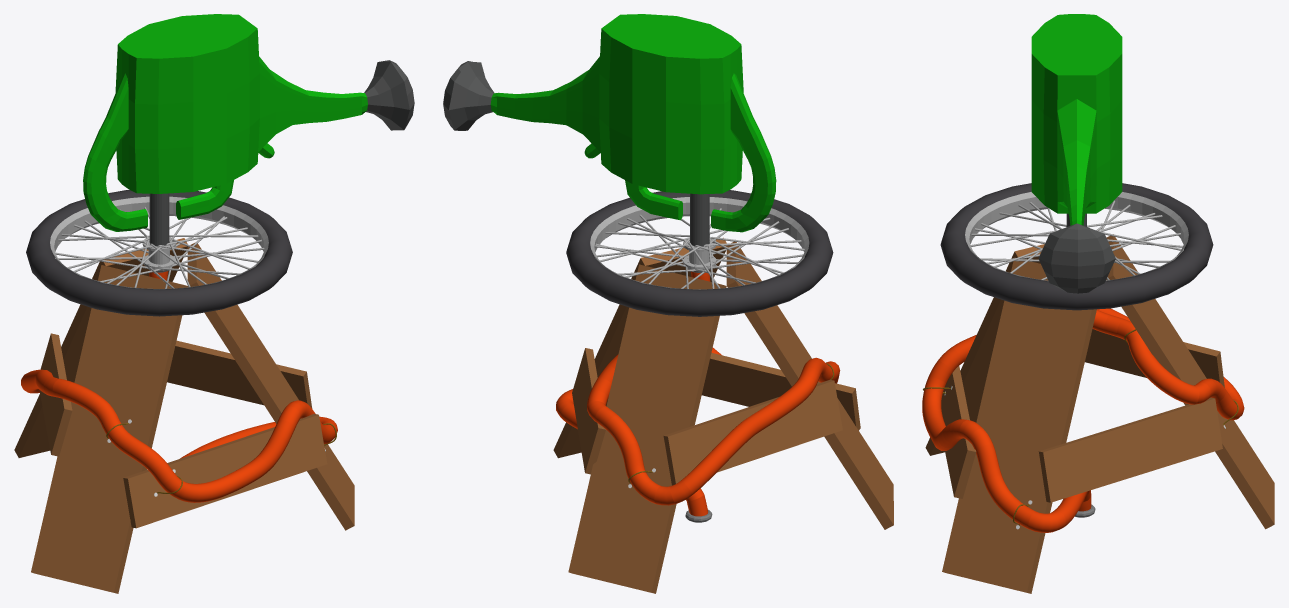
File: Water.fbx
The picture shows the model from 3 angles, left to right: view 1: azimuth 30°, elevation 25°; view 2: azimuth 150°, elevation 25°; view 3: azimuth 270°, elevation 25°; orthographic projection. The views are drawn at different scales.
Parts seen in each view (by area): view 1: WateringCan, Foothold1, Wheel, Hosepipe, Sideplank1, Foothold3, Sideplank3, Foothold2, WheelRim, Sideplank2, SpikesTop1, SpikesTop2 (+3 smaller); view 2: WateringCan, Foothold2, Wheel, Hosepipe, Sideplank2, Foothold1, Sideplank1, WheelRim, Foothold3, Sideplank3, SpikesTop1, SpikesTop2 (+2 smaller); view 3: Foothold3, WateringCan, Wheel, Hosepipe, Sideplank3, Foothold2, WheelRim, Foothold1, Sideplank2, Sideplank1, SpikesTop1, SpikesTop2 (+2 smaller).
Boxes of the visible parts, x1=… form: WateringCan: x1=83, y1=14, x2=414, y2=246; Foothold1: x1=31, y1=265, x2=188, y2=593; Wheel: x1=26, y1=190, x2=292, y2=316; Hosepipe: x1=21, y1=271, x2=337, y2=502; Sideplank1: x1=123, y1=413, x2=327, y2=528; Foothold3: x1=187, y1=242, x2=354, y2=530; Sideplank3: x1=167, y1=340, x2=312, y2=408; Foothold2: x1=14, y1=238, x2=187, y2=457; WheelRim: x1=50, y1=196, x2=268, y2=289; Sideplank2: x1=39, y1=333, x2=72, y2=456; SpikesTop1: x1=61, y1=209, x2=258, y2=287; SpikesTop2: x1=58, y1=221, x2=258, y2=287; WateringCan: x1=443, y1=14, x2=776, y2=246; Foothold2: x1=568, y1=264, x2=726, y2=593; Wheel: x1=566, y1=190, x2=833, y2=316; Hosepipe: x1=556, y1=271, x2=840, y2=516; Sideplank2: x1=663, y1=379, x2=842, y2=485; Foothold1: x1=726, y1=241, x2=893, y2=529; Sideplank1: x1=702, y1=352, x2=860, y2=430; WheelRim: x1=590, y1=197, x2=809, y2=289; Foothold3: x1=553, y1=237, x2=726, y2=458; Sideplank3: x1=572, y1=348, x2=605, y2=474; SpikesTop1: x1=594, y1=217, x2=804, y2=288; SpikesTop2: x1=600, y1=219, x2=801, y2=288; Foothold3: x1=942, y1=257, x2=1096, y2=593; WateringCan: x1=1031, y1=14, x2=1122, y2=293; Wheel: x1=940, y1=183, x2=1213, y2=310; Hosepipe: x1=922, y1=308, x2=1244, y2=532; Sideplank3: x1=1038, y1=397, x2=1222, y2=502; Foothold2: x1=1106, y1=234, x2=1274, y2=529; WheelRim: x1=965, y1=192, x2=1188, y2=281; Foothold1: x1=925, y1=244, x2=1044, y2=455; Sideplank2: x1=1085, y1=329, x2=1224, y2=387; Sideplank1: x1=941, y1=366, x2=976, y2=498; SpikesTop1: x1=971, y1=204, x2=1183, y2=275; SpikesTop2: x1=970, y1=212, x2=1182, y2=274.
Bounding box in the file's own units: 448 × 495 × 328.
